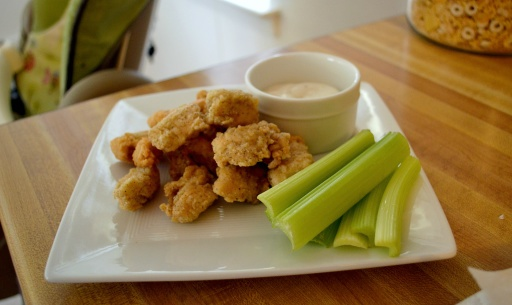background: (87, 41, 337, 122), (64, 9, 274, 47)
